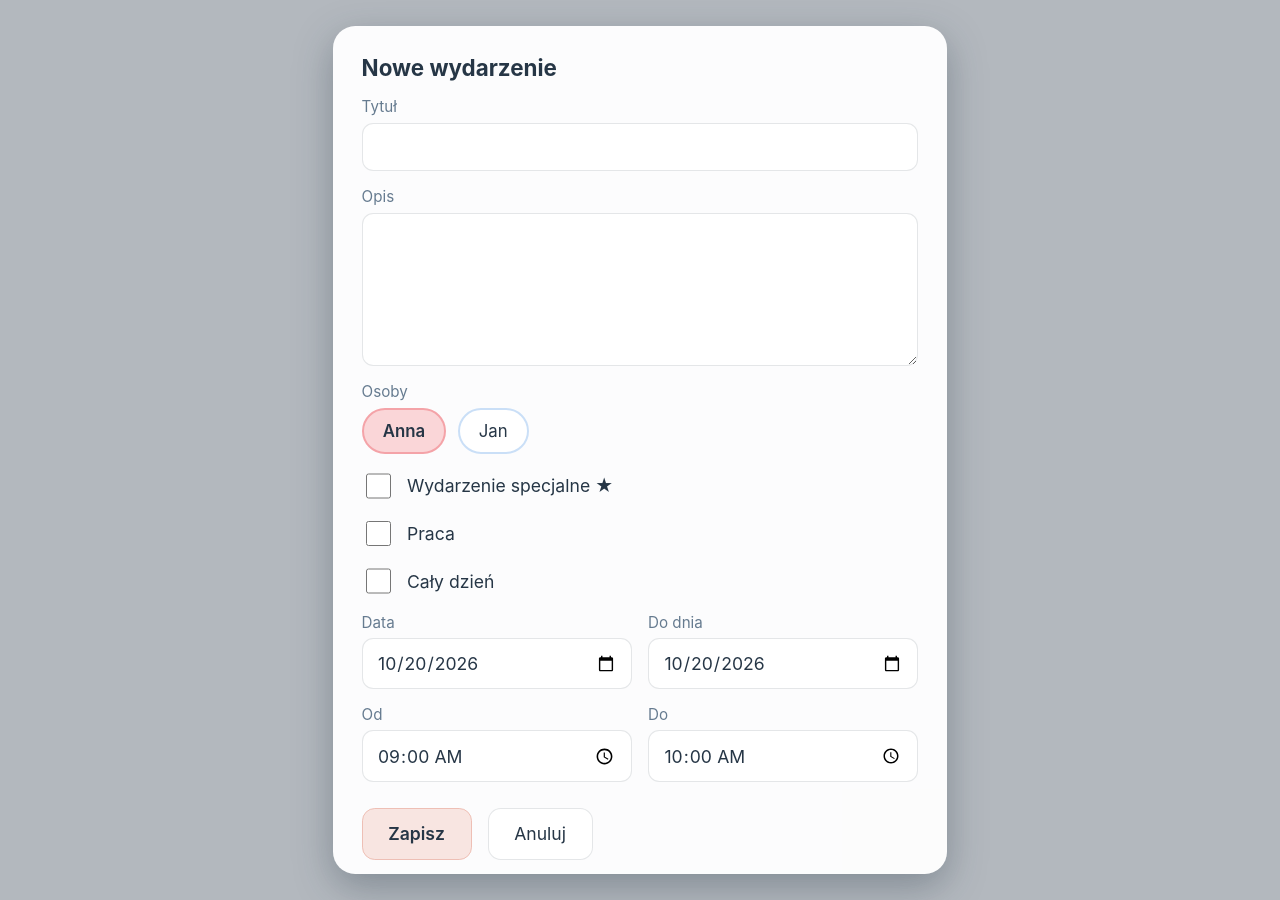
Test: EventDialog › hides the times for an all-day event
Click the checkbox labelled "Cały dzień".
click(378, 581)  # box [366,568,391,594]
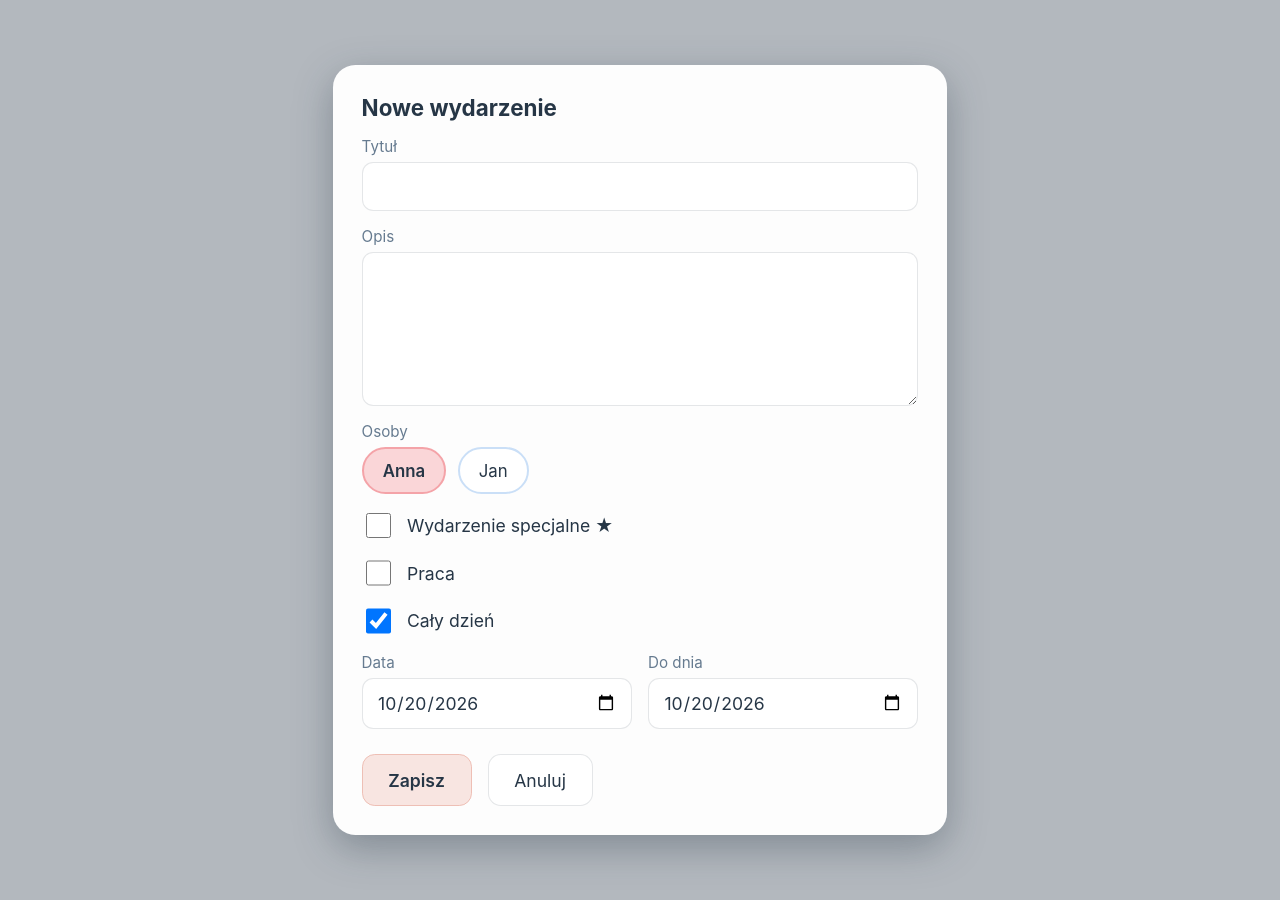
Expected: the label labelled "Od" is gone
